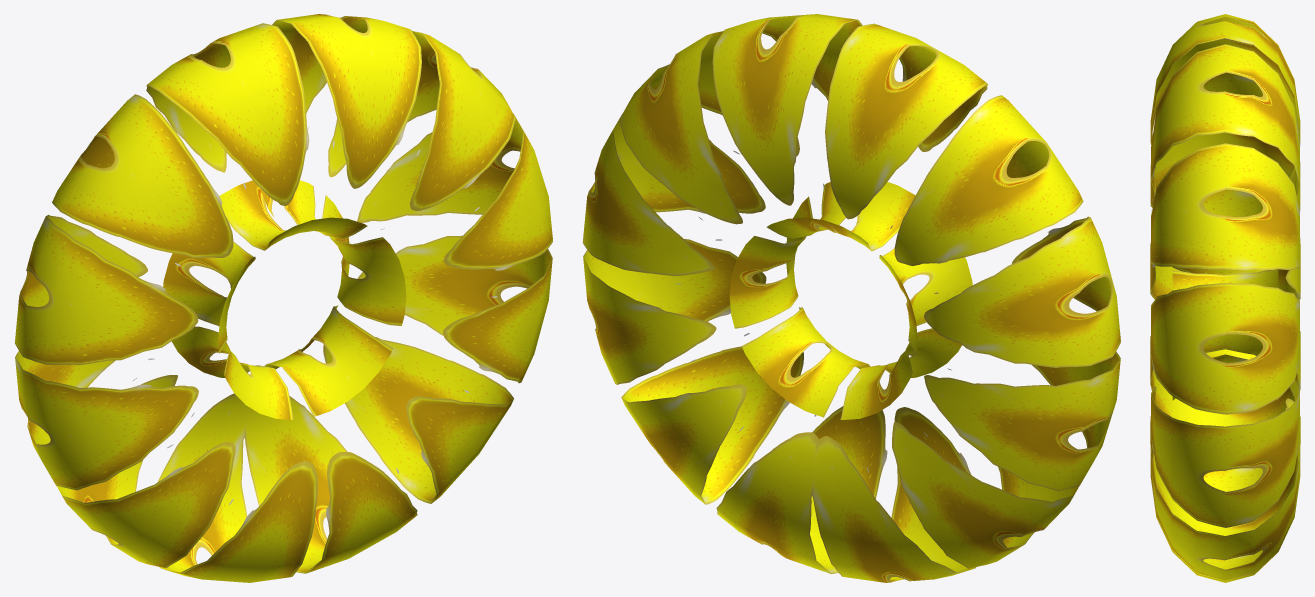
The model's file is GoldenDonut.fbx.
3 views of the same model, side by side, from view 1: azimuth 30°, elevation 25°; view 2: azimuth 150°, elevation 25°; view 3: azimuth 270°, elevation 25° (orthographic). The views are drawn at different scales.
Visible parts, largest first — view 1: CakeCannon__ck_donutsCombB03; view 2: CakeCannon__ck_donutsCombB03; view 3: CakeCannon__ck_donutsCombB03.
Boxes of the visible parts, box(x1,y1,x2,y2) form: CakeCannon__ck_donutsCombB03: box(15, 14, 552, 582); CakeCannon__ck_donutsCombB03: box(582, 14, 1120, 582); CakeCannon__ck_donutsCombB03: box(1150, 14, 1300, 582).
Size of the model in its own units: 9.19 by 9.19 by 2.42.
